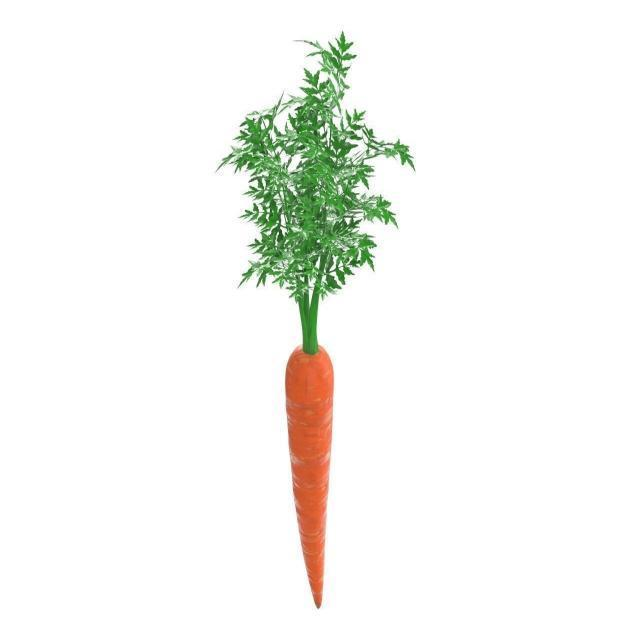carrot: (284, 326, 338, 621)
